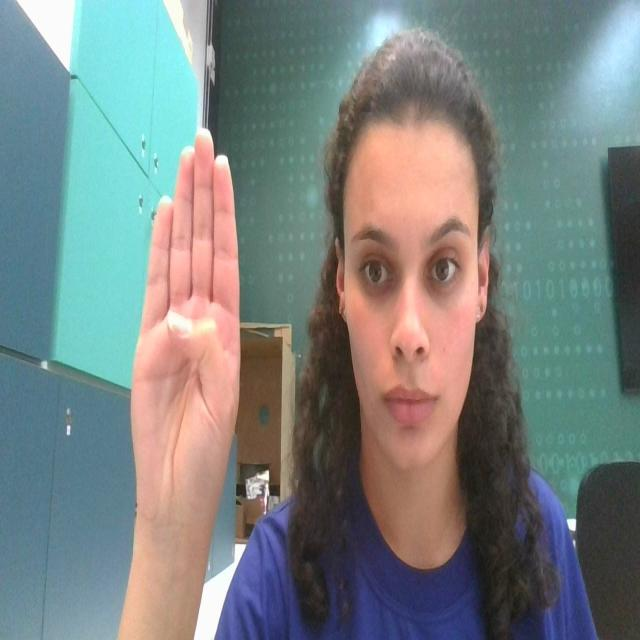B: (121, 116, 249, 534)
